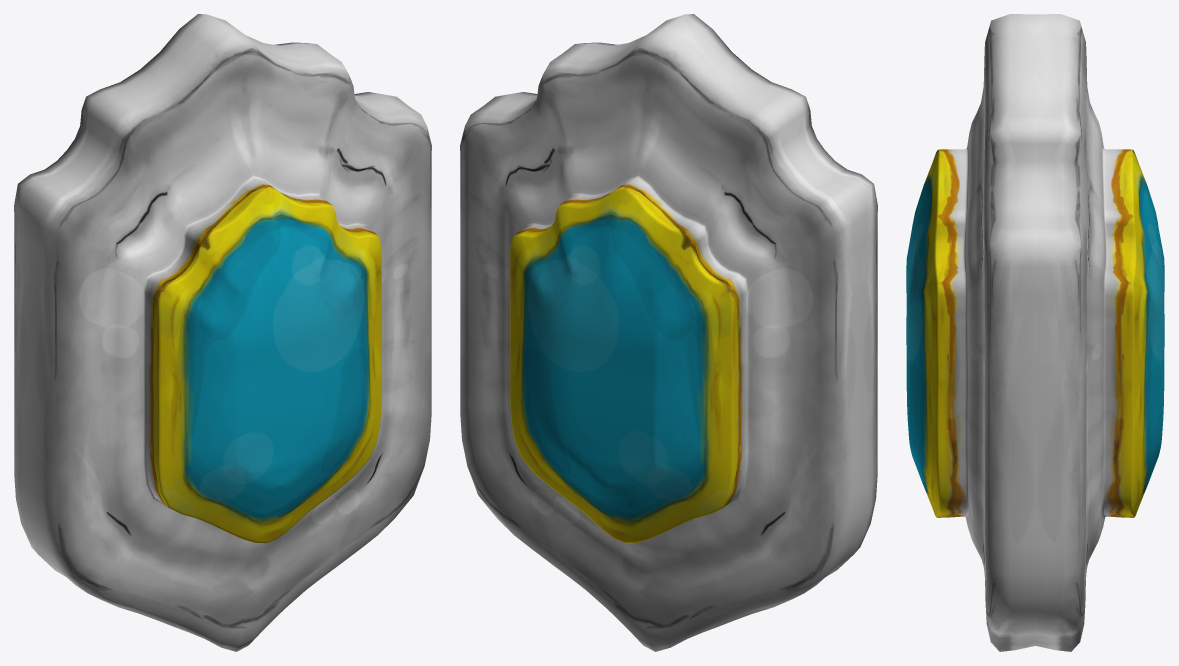
File: sheild-powerup.fbx
The picture shows the model from 3 angles, left to right: view 1: azimuth 30°, elevation 25°; view 2: azimuth 150°, elevation 25°; view 3: azimuth 270°, elevation 25°; orthographic projection. The views are drawn at different scales.
Parts seen in each view (by area): view 1: Shield_LoPoly; view 2: Shield_LoPoly; view 3: Shield_LoPoly.
Boxes of the visible parts, x1,y1,x2,y2 form: Shield_LoPoly: (14,14,431,651); Shield_LoPoly: (460,14,877,651); Shield_LoPoly: (906,14,1164,651).
Bounding box in the file's own units: 211 × 325 × 120.
